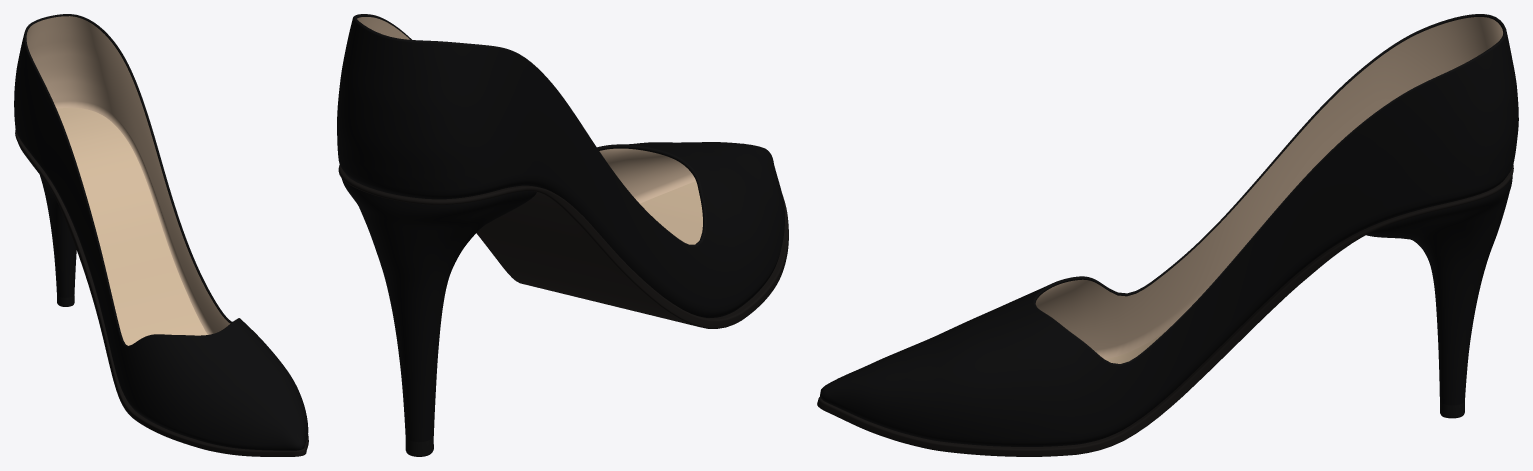
File: women_dress_a.glb
3 renders of one model, left to right at view 1: azimuth 30°, elevation 25°; view 2: azimuth 150°, elevation 25°; view 3: azimuth 270°, elevation 25°, orthographic. The views are drawn at different scales.
Parts seen in each view (by area): view 1: upper, sock, lining, sole, heel; view 2: upper, heel, sole, lining, sock; view 3: upper, lining, heel, sole.
Boxes of the visible parts, left/top/right/bottom form: upper: left=14, top=14, right=308, bottom=450; sock: left=56, top=107, right=207, bottom=345; lining: left=26, top=16, right=230, bottom=334; sole: left=15, top=130, right=308, bottom=456; heel: left=18, top=143, right=76, bottom=297; upper: left=337, top=14, right=784, bottom=317; heel: left=341, top=178, right=536, bottom=442; sole: left=338, top=165, right=788, bottom=328; lining: left=357, top=17, right=695, bottom=203; sock: left=640, top=181, right=702, bottom=244; upper: left=820, top=14, right=1518, bottom=446; lining: left=1035, top=17, right=1502, bottom=358; heel: left=1366, top=175, right=1512, bottom=405; sole: left=817, top=165, right=1513, bottom=456.
Size of the model in its own units: 75.91 by 152 by 252.
